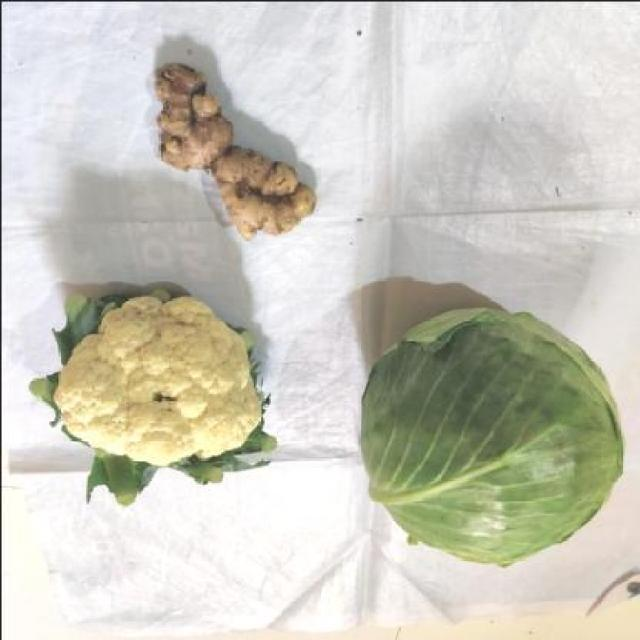Cabbage: (331, 286, 640, 580)
Cauliflower: (8, 266, 296, 523)
Ginger: (134, 49, 328, 245)
